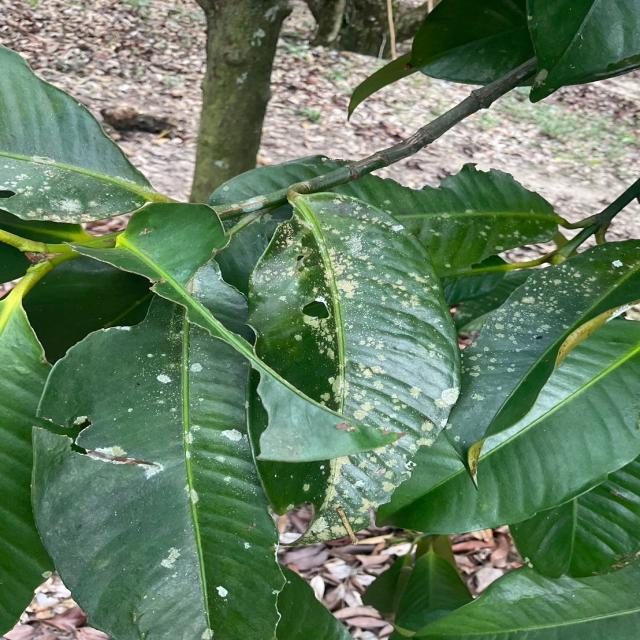Leaf Spot: (287, 191, 453, 503), (146, 352, 272, 535), (9, 137, 135, 235), (485, 238, 640, 314)
